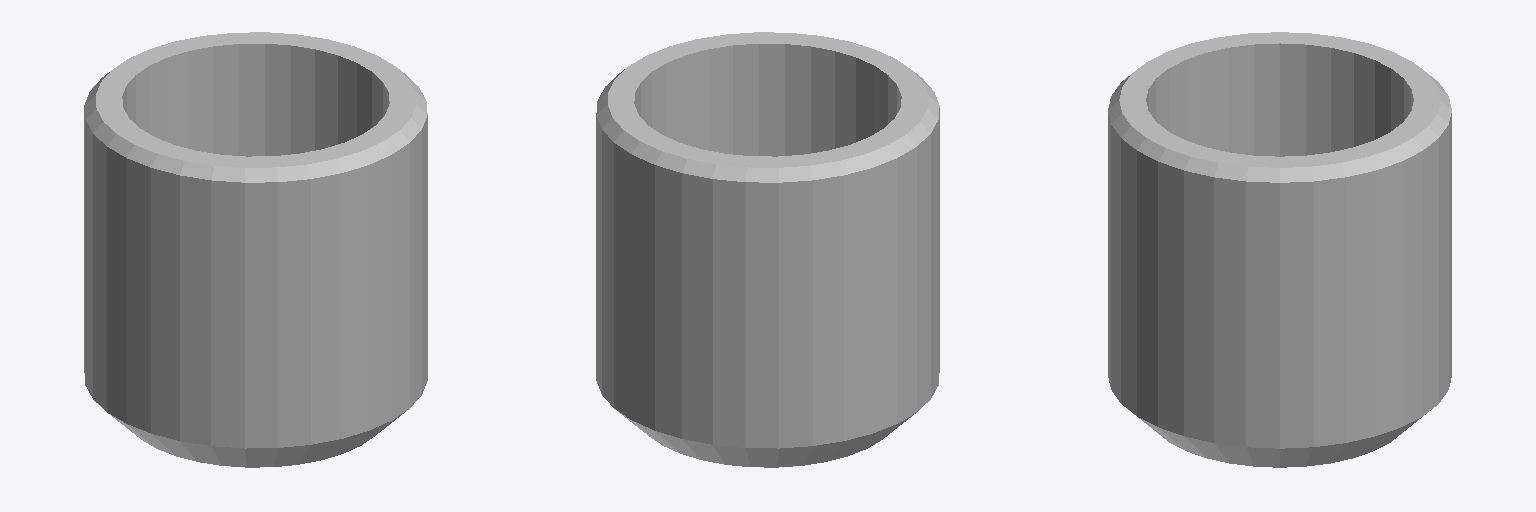
File: Tall_Vase.obj
3 renders of one model, left to right at view 1: azimuth 30°, elevation 25°; view 2: azimuth 150°, elevation 25°; view 3: azimuth 270°, elevation 25°, orthographic.
Visible parts, largest first — view 1: Vase_3; view 2: Vase_3; view 3: Vase_3.
Boxes of the visible parts, x1,y1,x2,y2 form: Vase_3: [84, 32, 427, 467]; Vase_3: [596, 32, 939, 467]; Vase_3: [1108, 32, 1451, 467].
Size of the model in its own units: 2 by 2 by 2.